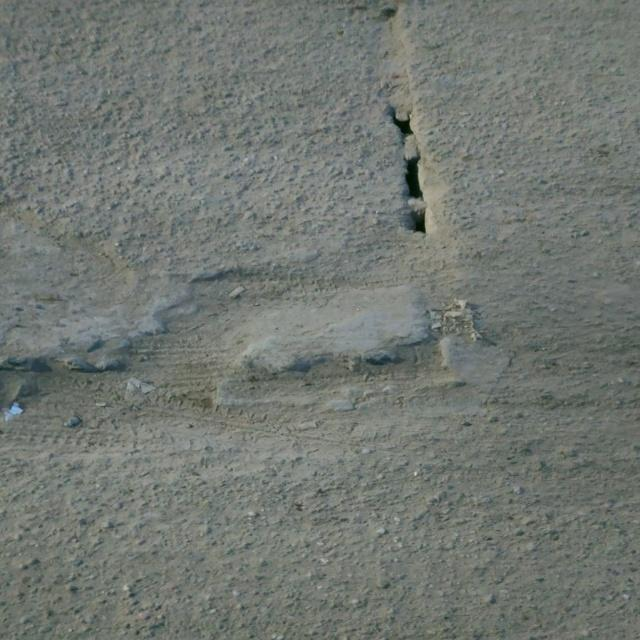Surface Erosion: (6, 70, 640, 540)
